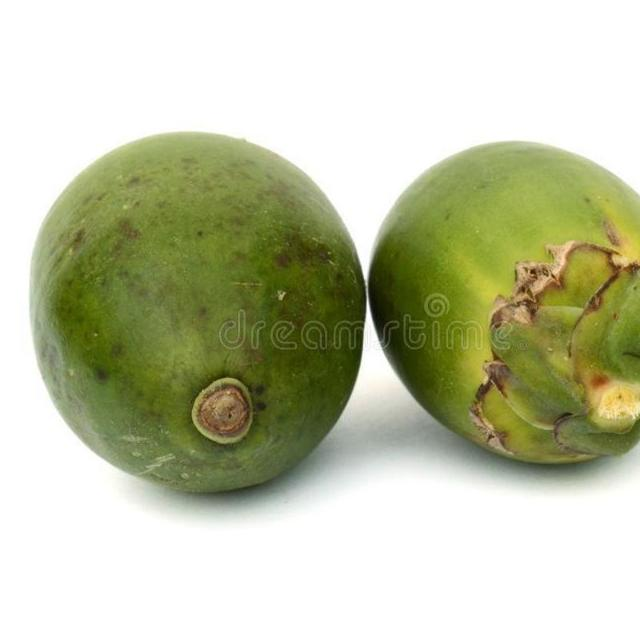good: (27, 130, 639, 497)
